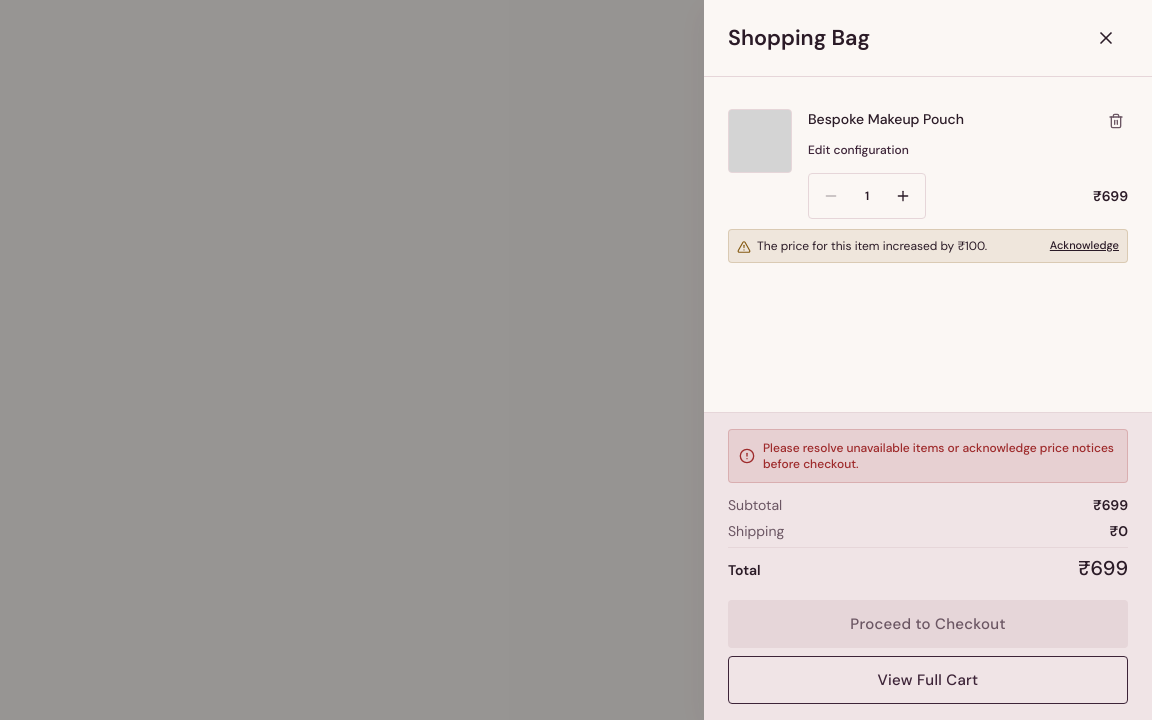
Test: FE-22: Cart drawer › blocks Checkout when an item has an unacknowledged price notice, and unblocks upon acknowledgement
Expected: the text "The price for this item increased by ₹100." is shown, [757,238,987,254]
Expected: the element with test id "checkout-blocked-notice" is shown, [728,429,1128,483]
// Acknowledge notice
Click the button "Acknowledge" at {"x": 1084, "y": 245}, box [1050,238,1119,253]
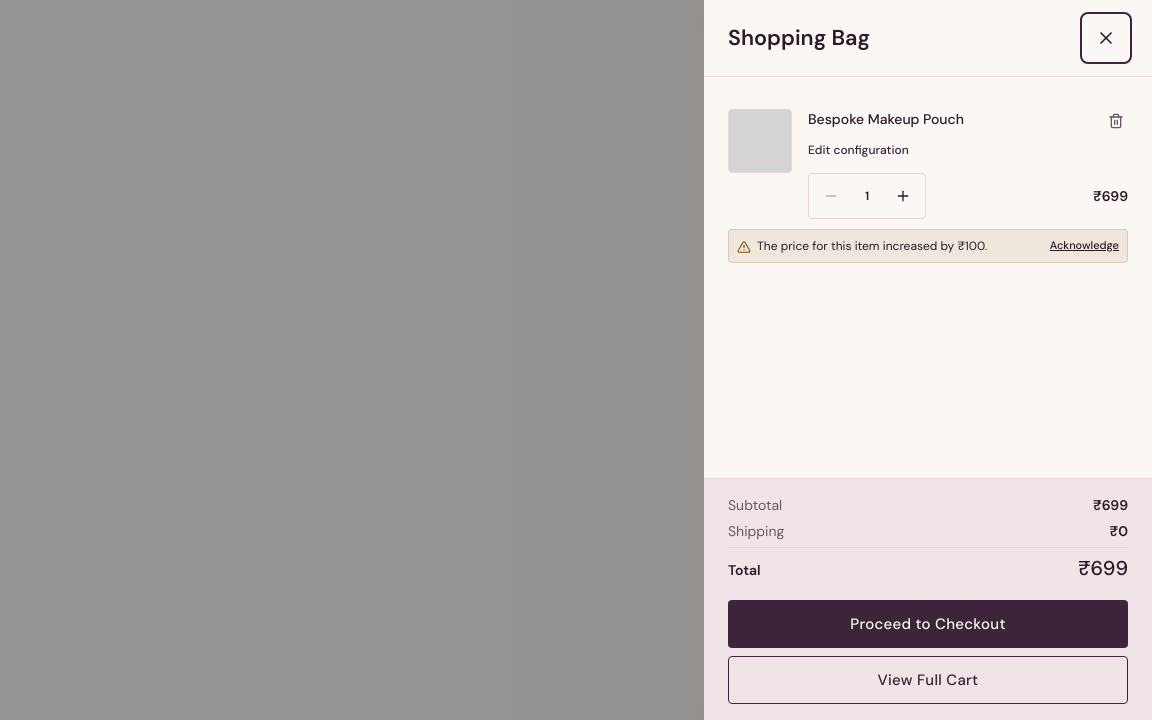
Expected: the button "Proceed to Checkout" is enabled, [728,600,1128,648]
Expected: the element with test id "checkout-blocked-notice" is gone
